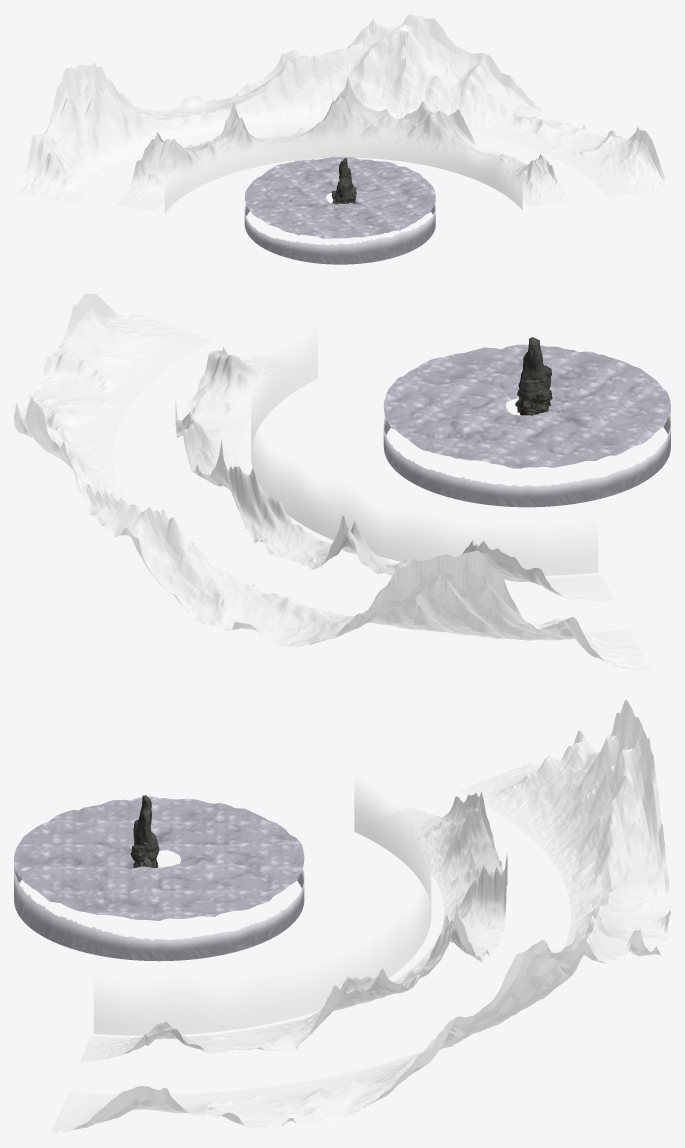
Rendered from shrine.glb.
The picture shows the model from 3 angles, top to bottom: view 1: azimuth 30°, elevation 25°; view 2: azimuth 150°, elevation 25°; view 3: azimuth 270°, elevation 25°; orthographic projection. The views are drawn at different scales.
Parts seen in each view (by area): view 1: mountains-mesh, cloudTops-mesh, cloudBank-mesh, cloudRing-13, cloudRing-12, cloudRing-14, stackC-mesh, cloudRing-15, cloudRing-11; view 2: mountains-mesh, cloudTops-mesh, cloudBank-mesh, stackB-mesh, stackC-mesh, cloudRing-22, cloudRing-21, cloudRing-23, cloudRing-20, cloudRing-0, cloudRing-19; view 3: mountains-mesh, cloudTops-mesh, cloudBank-mesh, cloudRing-7, cloudRing-6, cloudRing-8, cloudRing-5, cloudRing-4, stackC-mesh, cloudRing-9, cloudRing-3.
Boxes of the visible parts, box(x1,y1,x2,y2) form: mountains-mesh: box(14, 14, 670, 210); cloudTops-mesh: box(244, 156, 435, 238); cloudBank-mesh: box(164, 124, 522, 213); cloudRing-13: box(340, 241, 364, 264); cloudRing-12: box(365, 237, 387, 263); cloudRing-14: box(315, 243, 340, 264); stackC-mesh: box(338, 158, 352, 203); cloudRing-15: box(292, 241, 315, 263); cloudRing-11: box(388, 230, 407, 258); mountains-mesh: box(14, 293, 650, 670); cloudTops-mesh: box(383, 344, 670, 468); cloudBank-mesh: box(251, 328, 598, 575); stackB-mesh: box(515, 375, 552, 413); stackC-mesh: box(517, 337, 551, 409); cloudRing-22: box(490, 483, 527, 507); cloudRing-21: box(527, 483, 564, 507); cloudRing-23: box(455, 477, 490, 504); cloudRing-20: box(564, 477, 599, 504); cloudRing-0: box(426, 468, 455, 498); cloudRing-19: box(599, 467, 628, 498); mountains-mesh: box(51, 700, 670, 1133); cloudTops-mesh: box(14, 796, 304, 920); cloudBank-mesh: box(93, 781, 431, 1035); cloudRing-7: box(86, 926, 121, 958); cloudRing-6: box(121, 935, 159, 961); cloudRing-8: box(56, 915, 86, 952); cloudRing-5: box(159, 936, 196, 961); cloudRing-4: box(196, 931, 231, 958); stackC-mesh: box(133, 795, 155, 861); cloudRing-9: box(33, 900, 56, 942); cloudRing-3: box(231, 921, 261, 952).
Bounding box in the file's own units: 488 × 76.14 × 362.
Materials: 6 (5 with a texture image).
